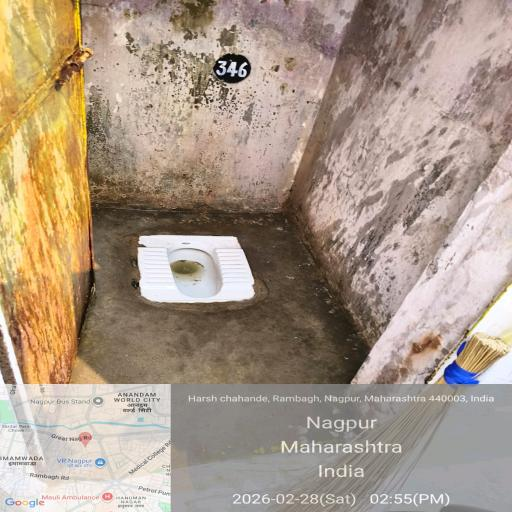dirty_floor: (87, 202, 416, 512), (0, 24, 116, 466), (102, 37, 444, 179)
dirty_indian: (140, 220, 278, 313)
